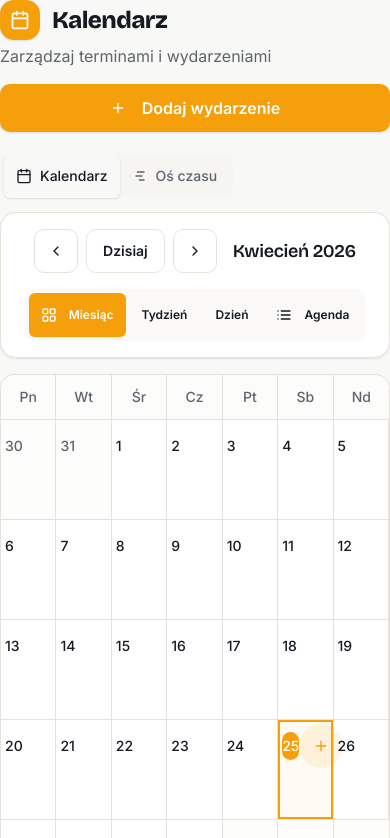
Calendar › empty state in agenda view › should show no-events message in agenda view when events list is empty
The image size is (390, 838).
Click the button "Agenda" at (313, 315), box [264,293,361,337]
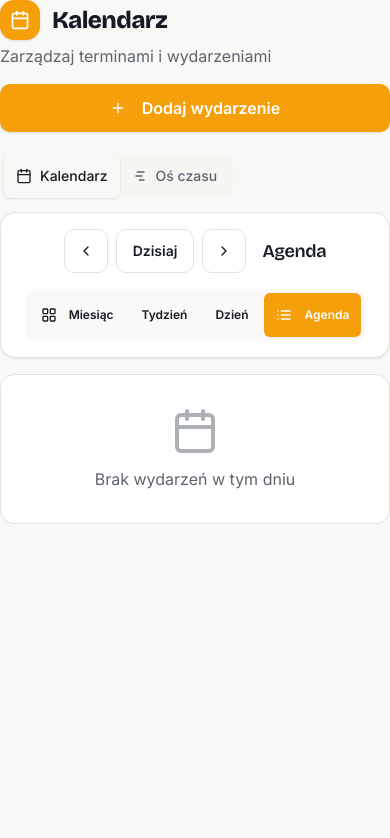
Check: the text "Brak wydarzeń w tym dniu" is shown, box [95,469,295,489]
